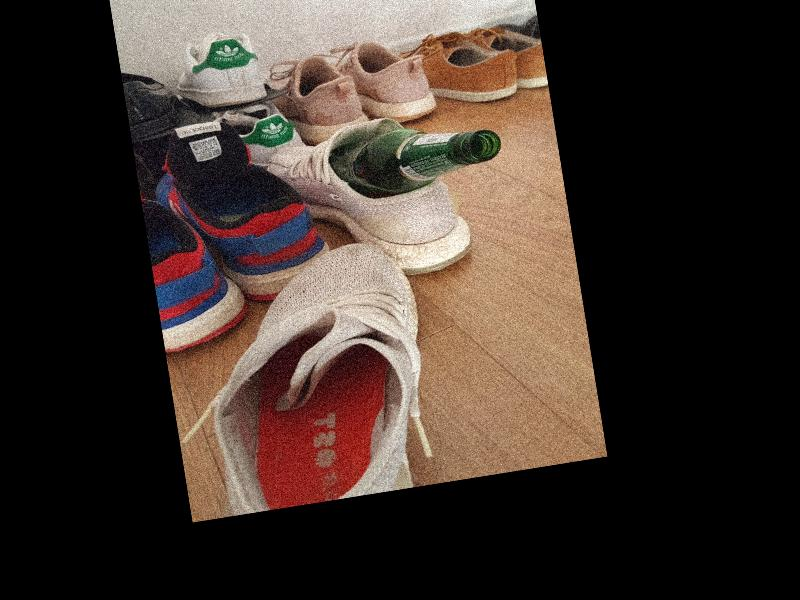Beer: (326, 115, 506, 204)
